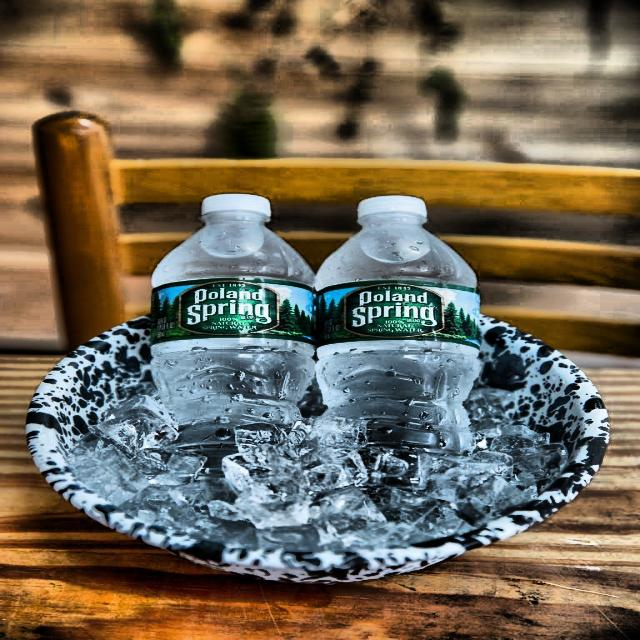Bottles: (308, 184, 502, 501), (136, 185, 324, 500)
